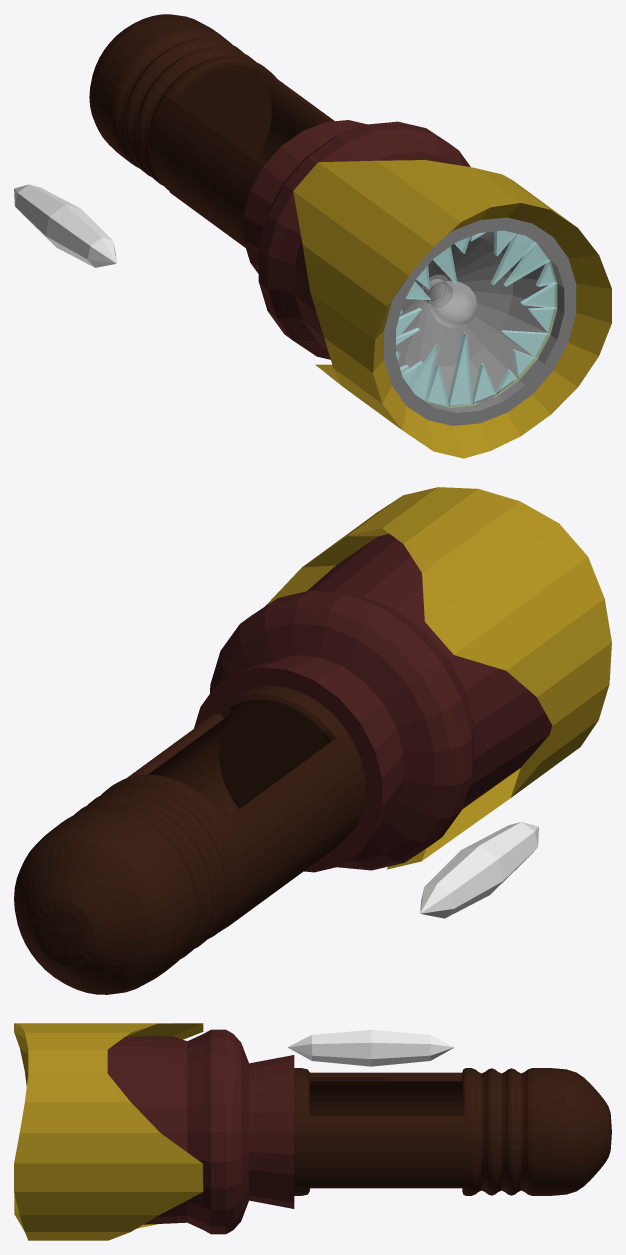
Rendered from Magic_Flashlight_GameJam_Updated.fbx.
3 renders of one model, top to bottom at view 1: azimuth 30°, elevation 25°; view 2: azimuth 150°, elevation 25°; view 3: azimuth 270°, elevation 25°, orthographic. The views are drawn at different scales.
Visible parts, largest first — view 1: Flashlight_Top, Flashlight, Crystal, LightBulb; view 2: Flashlight_Top, Flashlight, Crystal; view 3: Flashlight_Top, Flashlight, Crystal.
Part boxes in pixels (<box>): Flashlight_Top: <box>243,120,611,458</box>; Flashlight: <box>89,14,334,247</box>; Crystal: <box>14,184,116,267</box>; LightBulb: <box>424,278,477,327</box>; Flashlight_Top: <box>194,487,611,872</box>; Flashlight: <box>14,685,365,994</box>; Crystal: <box>420,822,538,918</box>; Flashlight_Top: <box>14,1023,294,1240</box>; Flashlight: <box>294,1068,611,1195</box>; Crystal: <box>287,1029,454,1066</box>.
Size of the model in its own units: 290 by 194 by 528.
